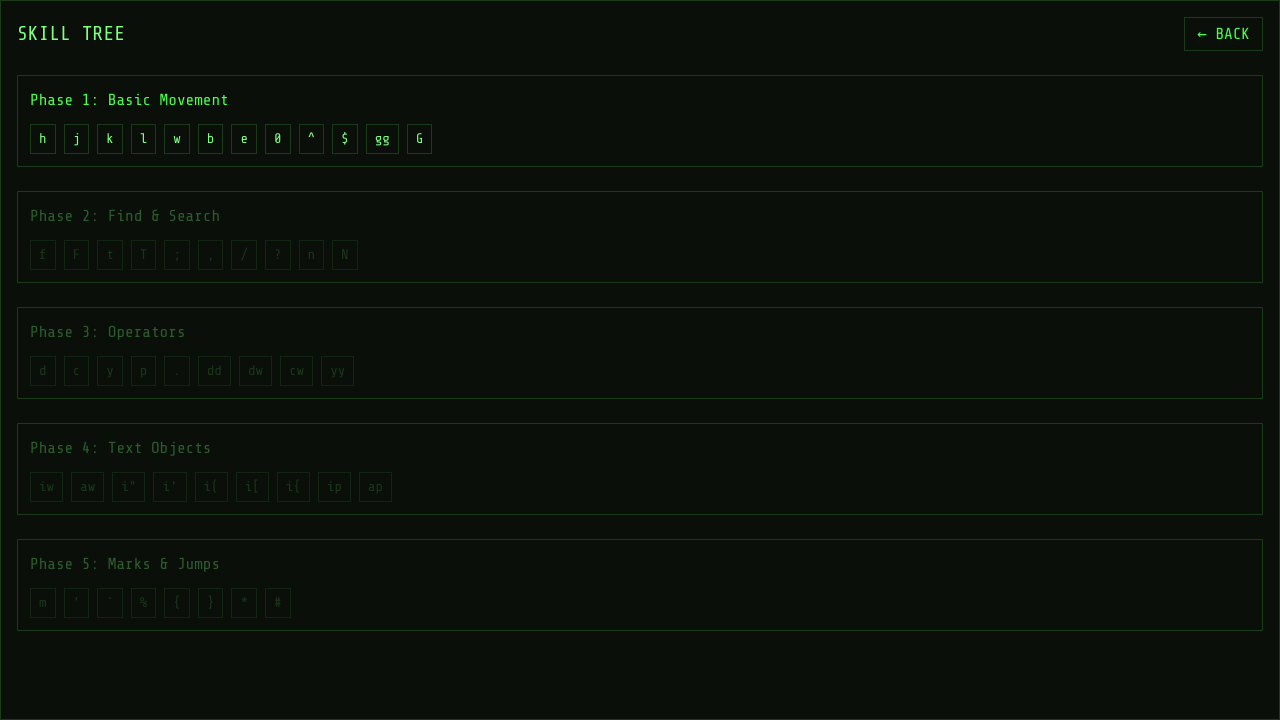
Test case: SkillTreeScreen › clicking a motion with zero usage shows 0 in tooltip
The image size is (1280, 720).
Click the button with test id "motion-l". click: (144, 139)
box: [131, 124, 156, 154]
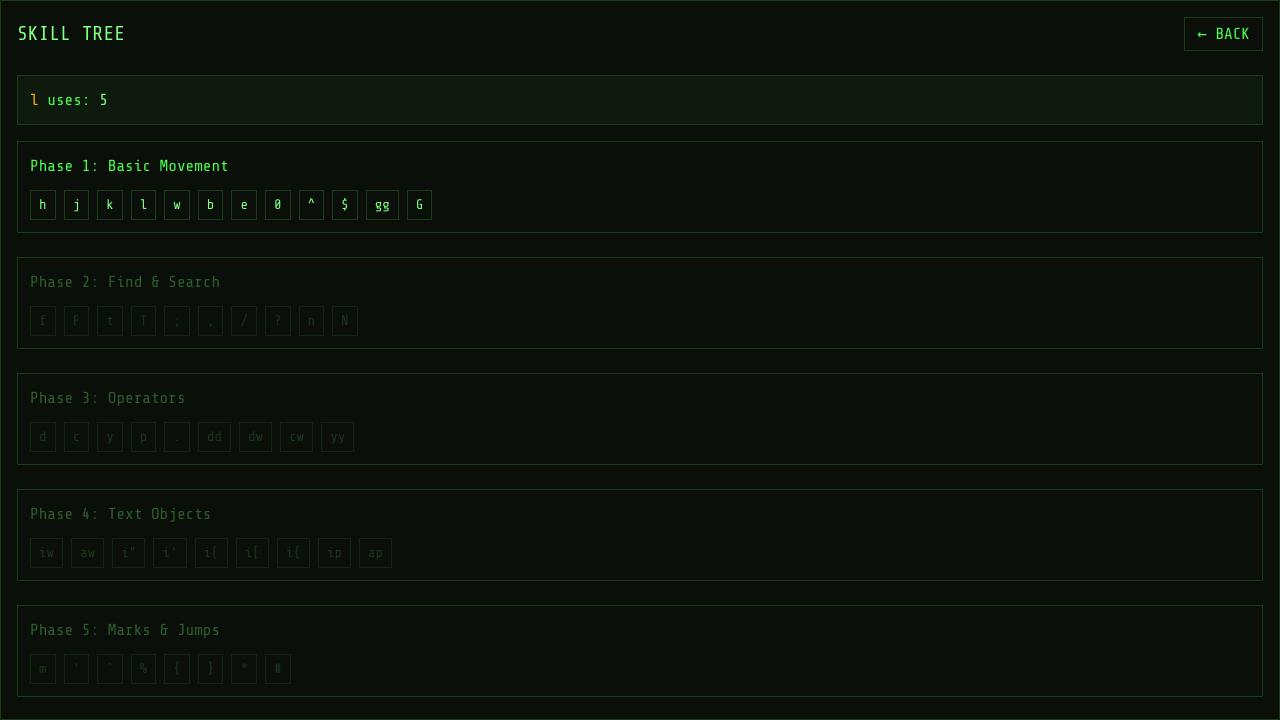
Expected: the element with test id "motion-tooltip" is shown, [17, 75, 1263, 125]
Expected: the text "5" is shown, [99, 91, 108, 109]
